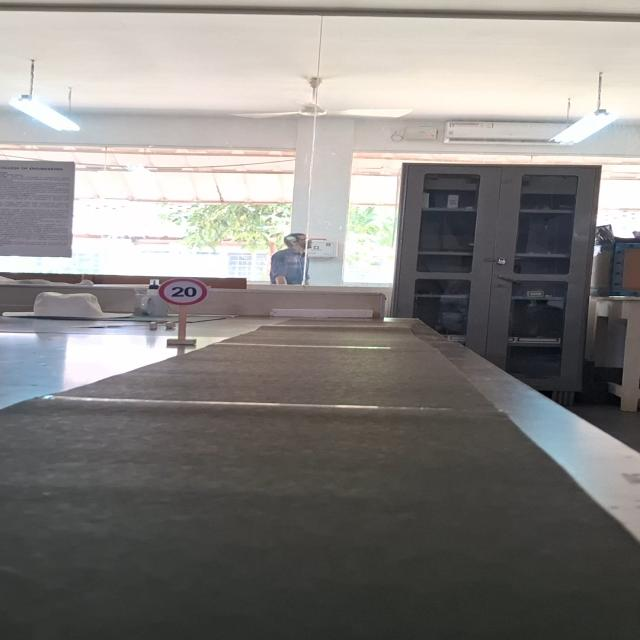Speed20: (157, 276, 209, 307)
